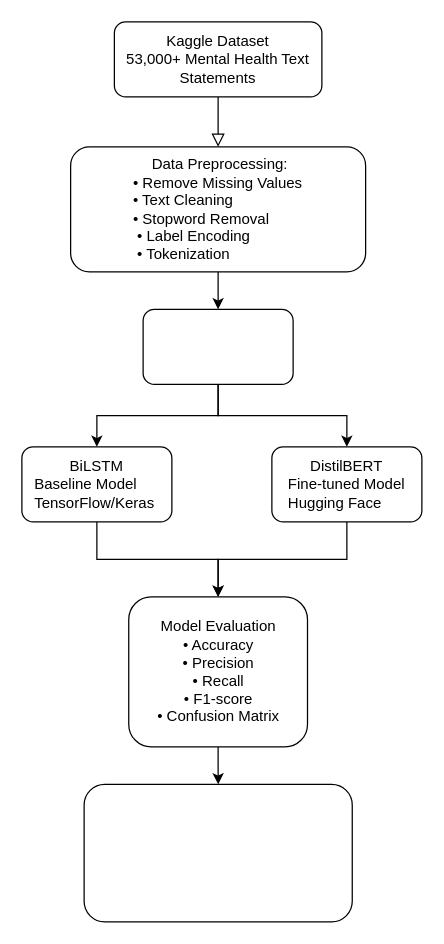
Some shapes in this 444 by 944 pixel diagram are drawn without their labels. The shapes that lost their labels are listed below. From the top down, each one's centre as x and y in pixels, then its label:
At [217,346]: "Model Development".
At [217,852]: "Performance Comparison BiLSTM vs DistilBERT DistilBERT Outperformed BiLSTM".
